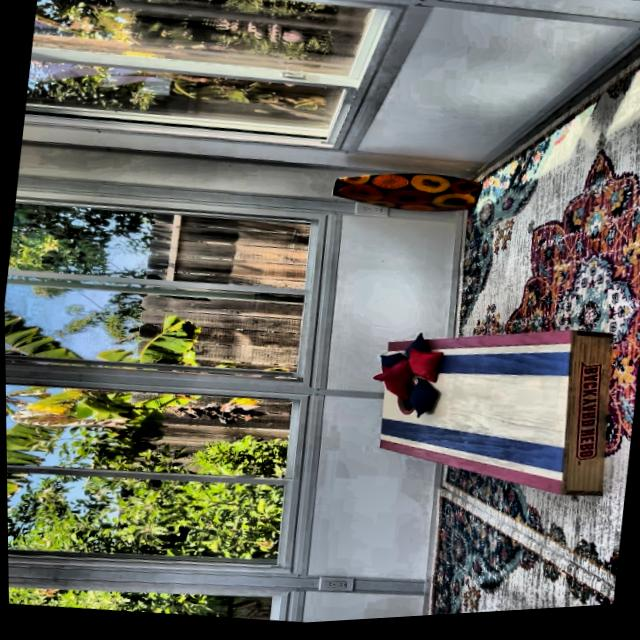blue-bean-bag: (405, 379, 437, 424), (402, 334, 433, 366), (376, 353, 403, 376)
board: (375, 330, 570, 486)
hole: (391, 384, 418, 420)
red-bean-bag: (370, 358, 414, 389), (403, 352, 441, 387), (375, 368, 409, 405)
